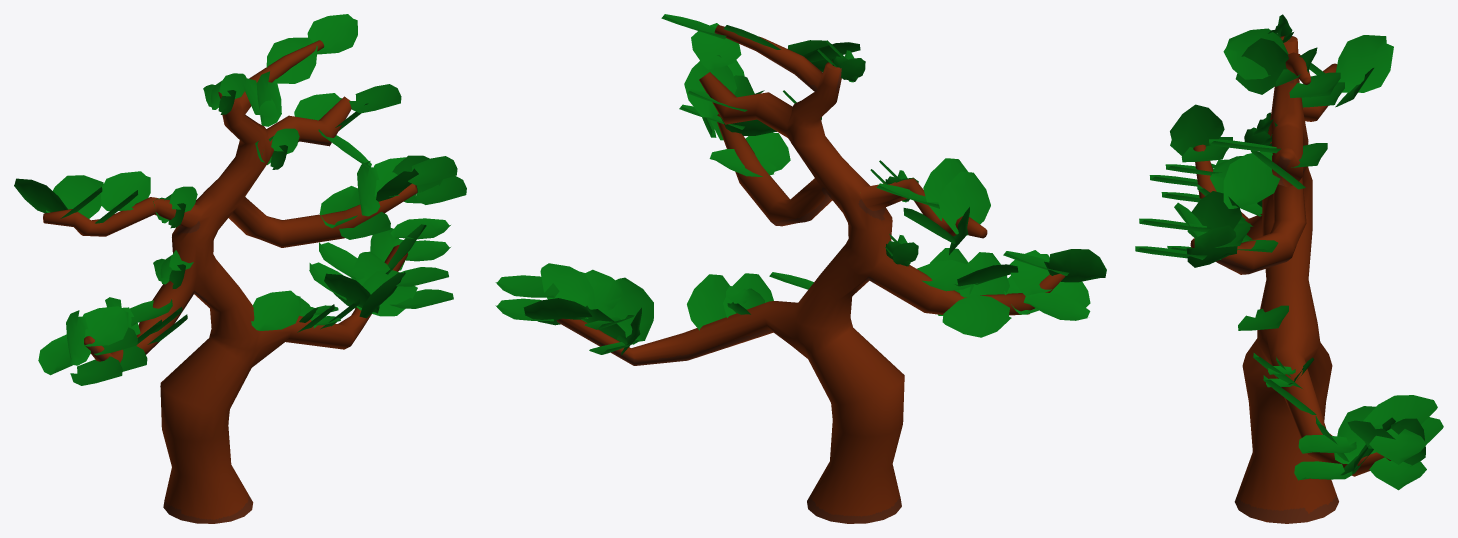
File: bonsai.fbx
3 views of the same model, side by side, from view 1: azimuth 30°, elevation 25°; view 2: azimuth 150°, elevation 25°; view 3: azimuth 270°, elevation 25° (orthographic). The views are drawn at different scales.
Visible parts, largest first — view 1: Cylinder; view 2: Cylinder; view 3: Cylinder.
Boxes of the visible parts, box(x1,y1,x2,y2) form: Cylinder: box(14, 14, 466, 523); Cylinder: box(495, 14, 1106, 523); Cylinder: box(1135, 14, 1443, 523).
Size of the model in its own units: 290 by 251 by 139.
Materials: 1 (1 with a texture image).
